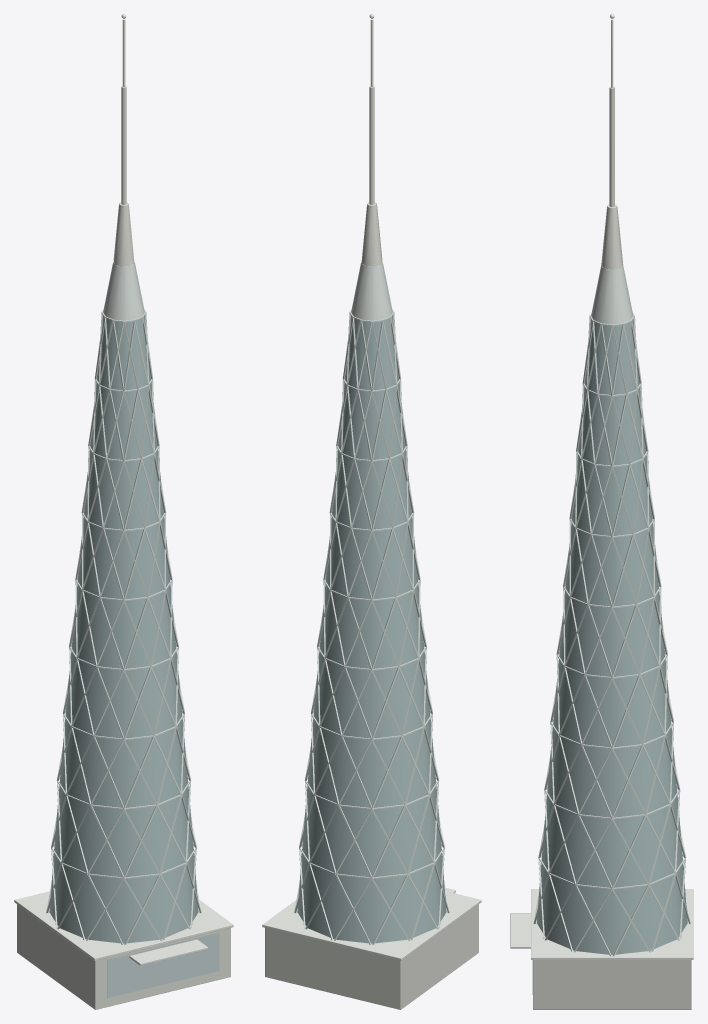
The model's file is LM_ENV_Merdeka118.glb.
3 views of the same model, side by side, from view 1: azimuth 30°, elevation 25°; view 2: azimuth 150°, elevation 25°; view 3: azimuth 270°, elevation 25° (orthographic).
Visible parts, largest first — view 1: Merdeka118 | 118 glass, Merdeka118 | 118 facet, Merdeka118 | Podium stone, Merdeka118 | Entrance canopy, Merdeka118 | Lobby glass, Merdeka118 | 118 spire; view 2: Merdeka118 | 118 glass, Merdeka118 | 118 facet, Merdeka118 | Podium stone, Merdeka118 | Entrance canopy, Merdeka118 | 118 spire; view 3: Merdeka118 | 118 glass, Merdeka118 | 118 facet, Merdeka118 | Podium stone, Merdeka118 | Entrance canopy, Merdeka118 | 118 spire.
Part boxes in pixels (bbox=[...]): Merdeka118 | 118 glass: bbox=[49, 315, 198, 943]; Merdeka118 | 118 facet: bbox=[46, 262, 201, 944]; Merdeka118 | Podium stone: bbox=[17, 904, 230, 1009]; Merdeka118 | Entrance canopy: bbox=[14, 891, 233, 965]; Merdeka118 | Lobby glass: bbox=[107, 932, 219, 998]; Merdeka118 | 118 spire: bbox=[113, 14, 134, 266]; Merdeka118 | 118 glass: bbox=[297, 315, 446, 943]; Merdeka118 | 118 facet: bbox=[294, 262, 449, 944]; Merdeka118 | Podium stone: bbox=[265, 904, 478, 1009]; Merdeka118 | Entrance canopy: bbox=[262, 887, 481, 960]; Merdeka118 | 118 spire: bbox=[361, 14, 382, 266]; Merdeka118 | 118 glass: bbox=[537, 319, 687, 954]; Merdeka118 | 118 facet: bbox=[533, 265, 690, 956]; Merdeka118 | Podium stone: bbox=[533, 960, 691, 1009]; Merdeka118 | Entrance canopy: bbox=[510, 889, 693, 959]; Merdeka118 | 118 spire: bbox=[601, 14, 623, 269].
Bounding box in the file's own units: 17.4 × 114 × 19.6.
